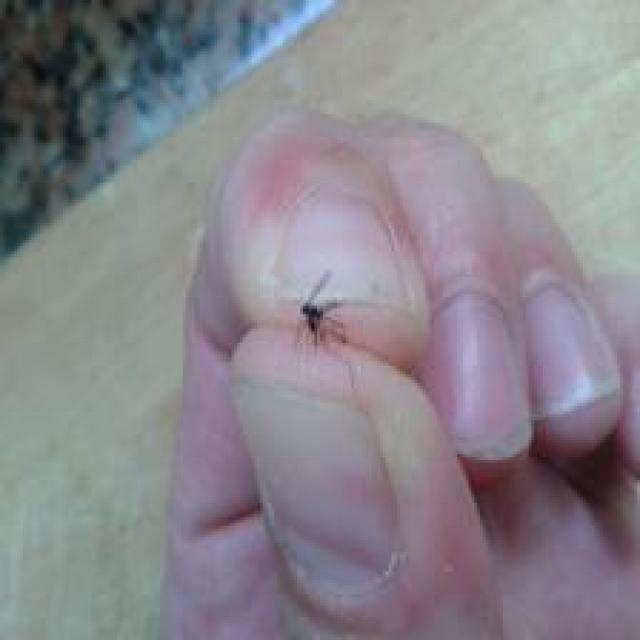Aedes albopictus: (296, 270, 347, 350)
